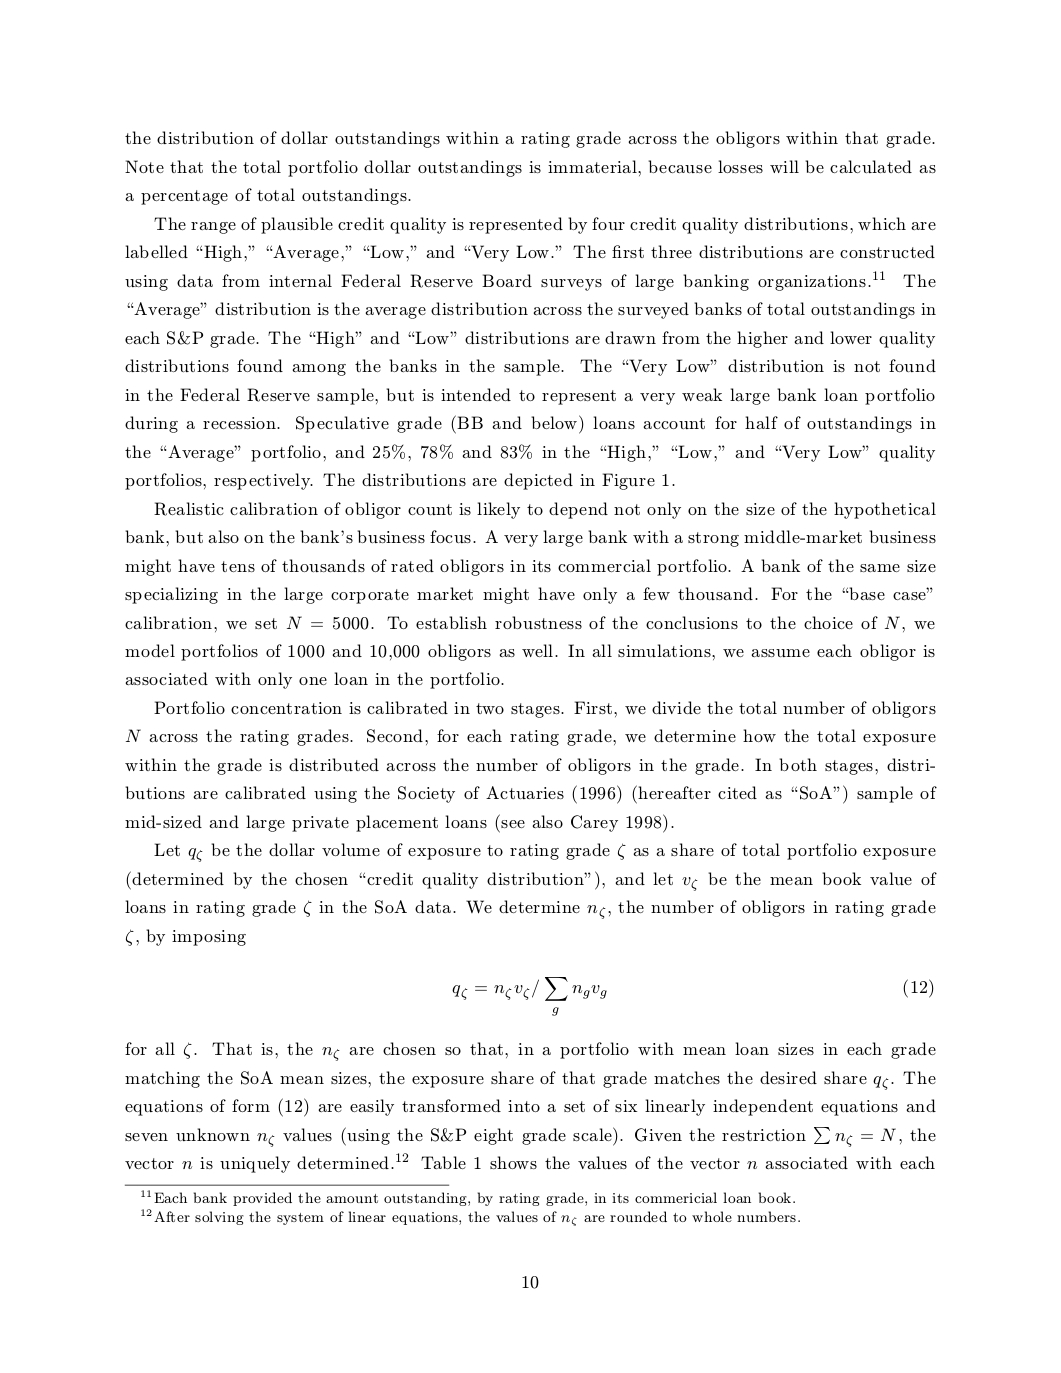formula: (452, 977, 933, 1015)
